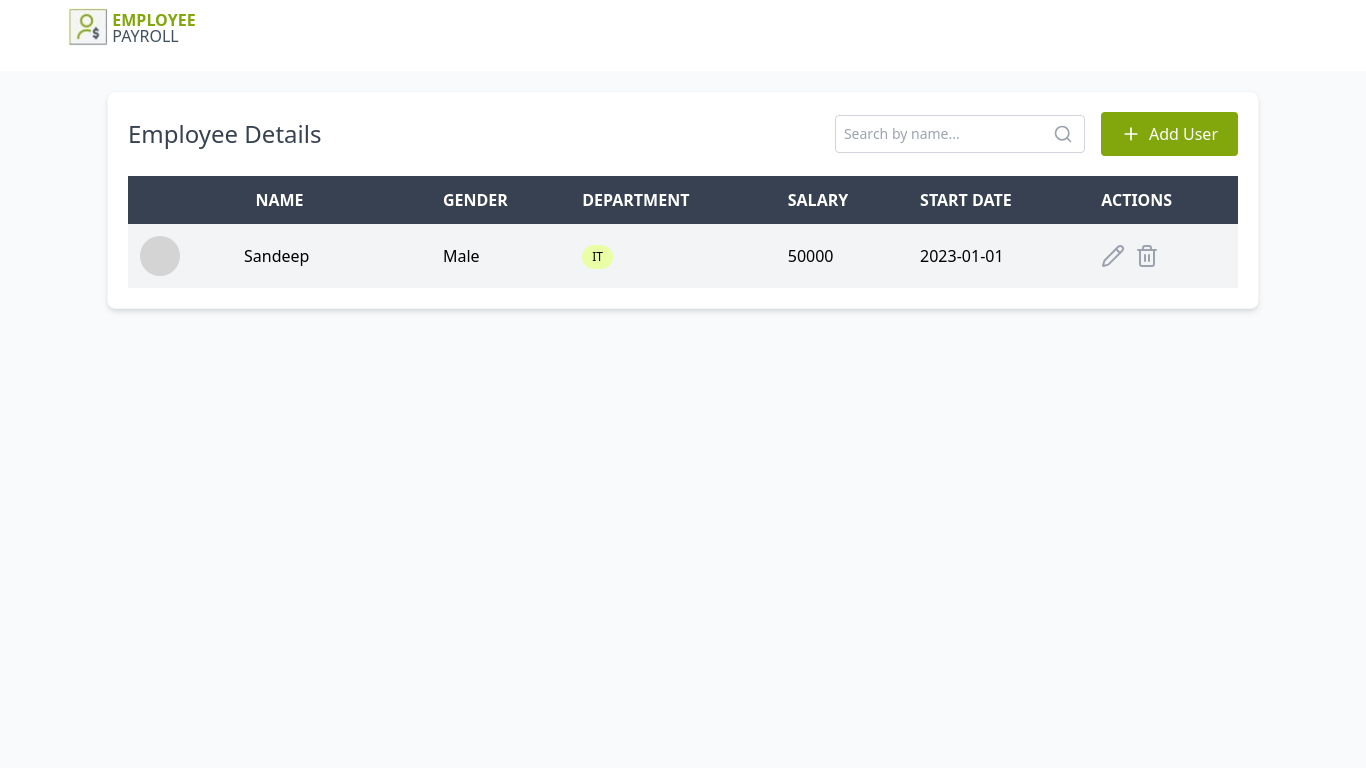
Test: Dashboard Component › handles delete button click with confirmation
Expected: the text "Sandeep" is shown, [244,244,309,268]
Click the button named "Delete employee" at (1147, 256), box [1135,244,1159,268]
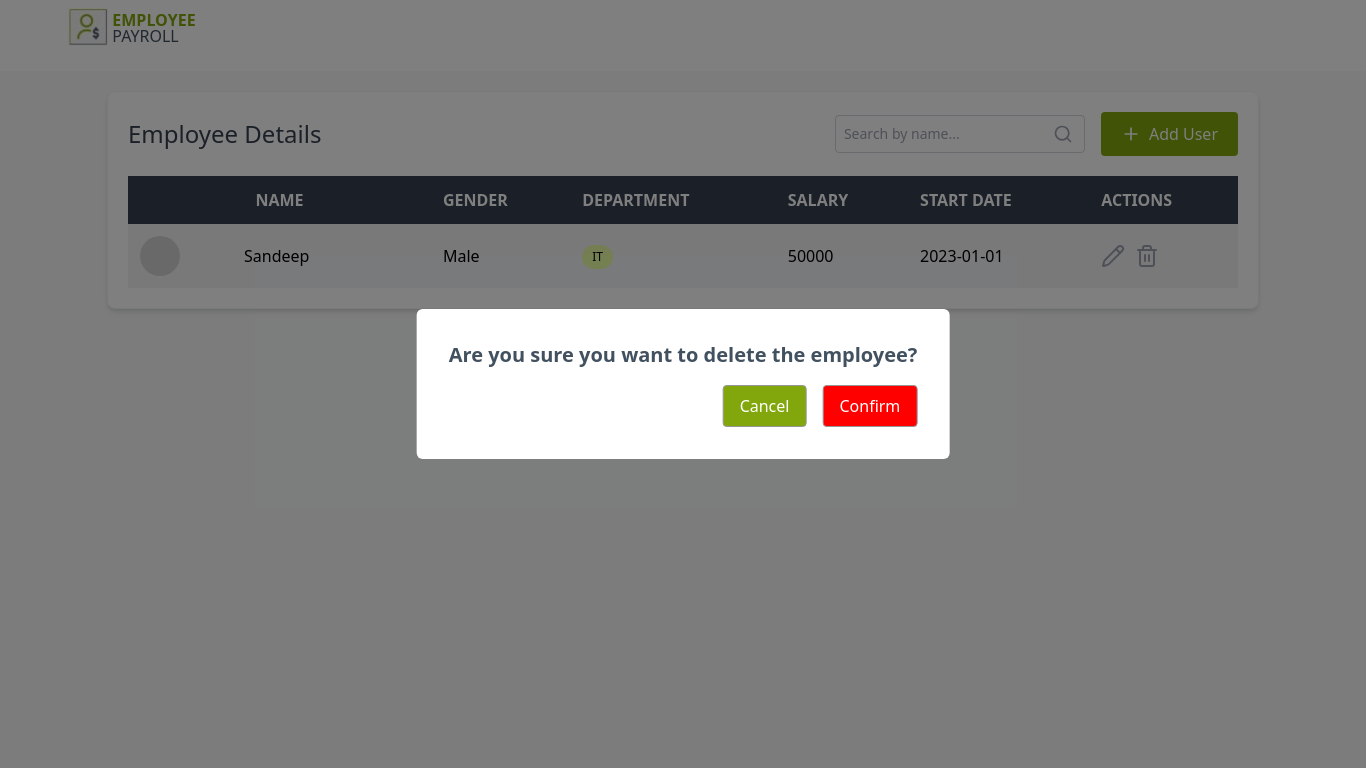
Expected: the heading "Are you sure you want to delete the employee?" is shown, [449,341,917,369]
Click the button "Confirm" at (870, 406), box [822,385,917,427]
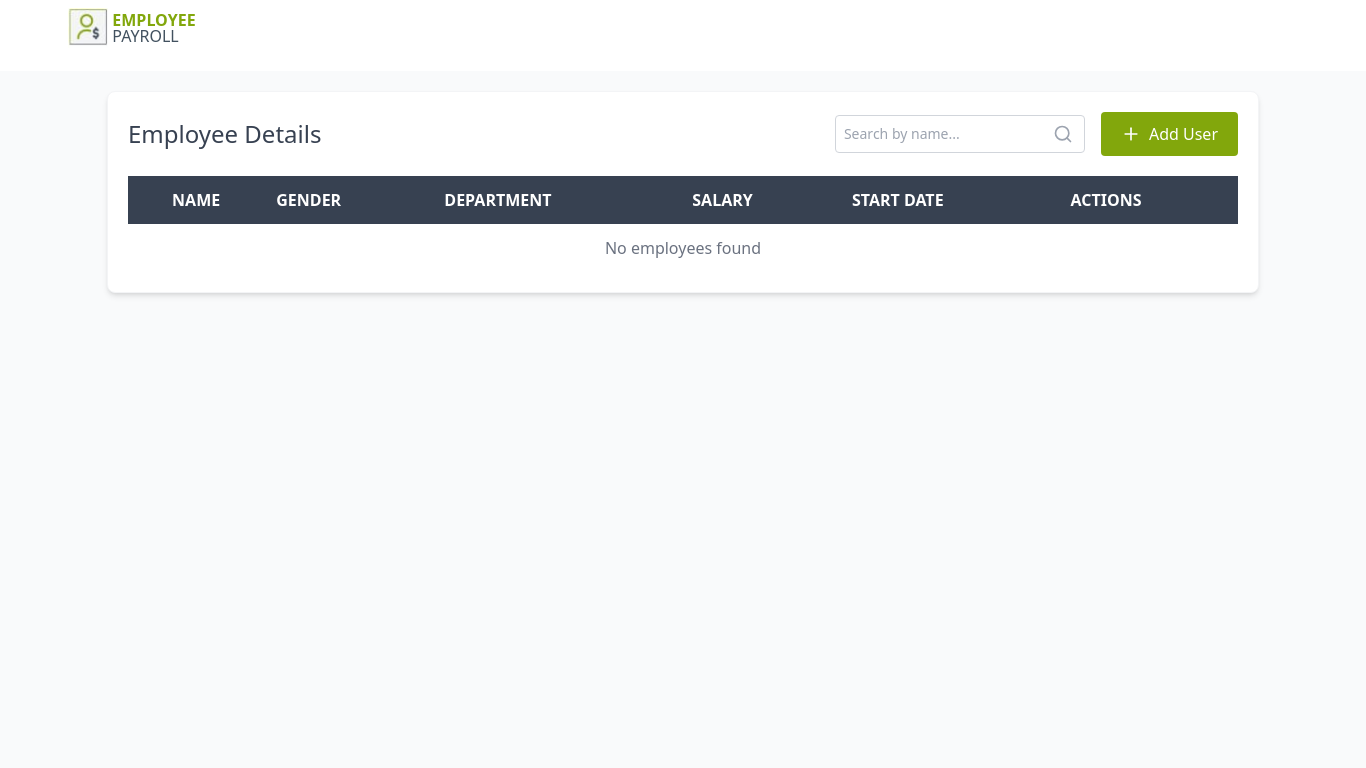
Expected: the text "Sandeep" is gone
